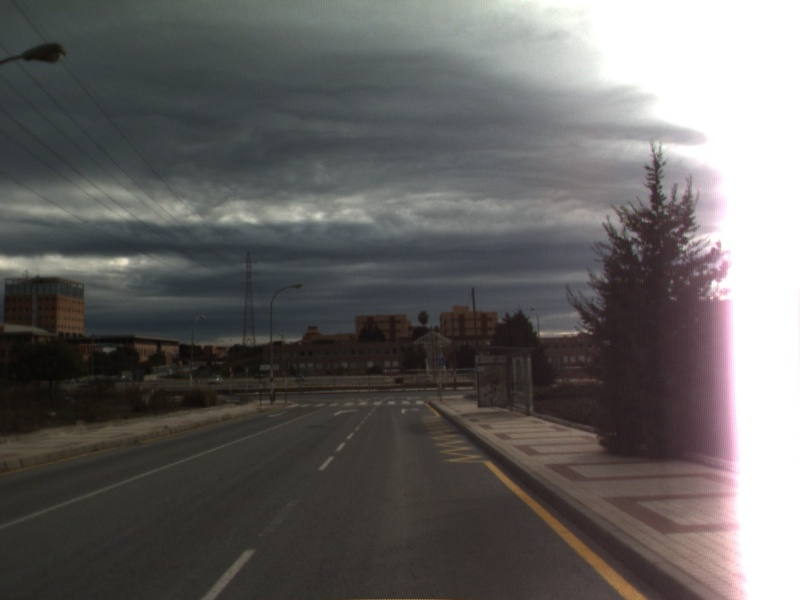RIGHT: (331, 406, 362, 418), (398, 405, 422, 416)
